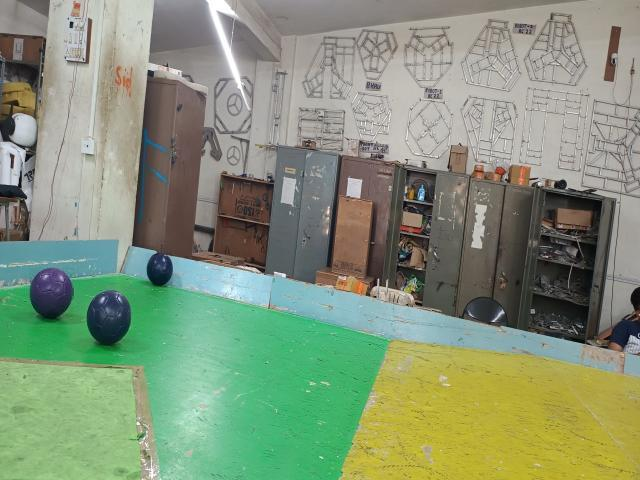jambhalya: (30, 269, 73, 318)
kaalyya: (86, 290, 131, 345), (147, 253, 172, 285)
